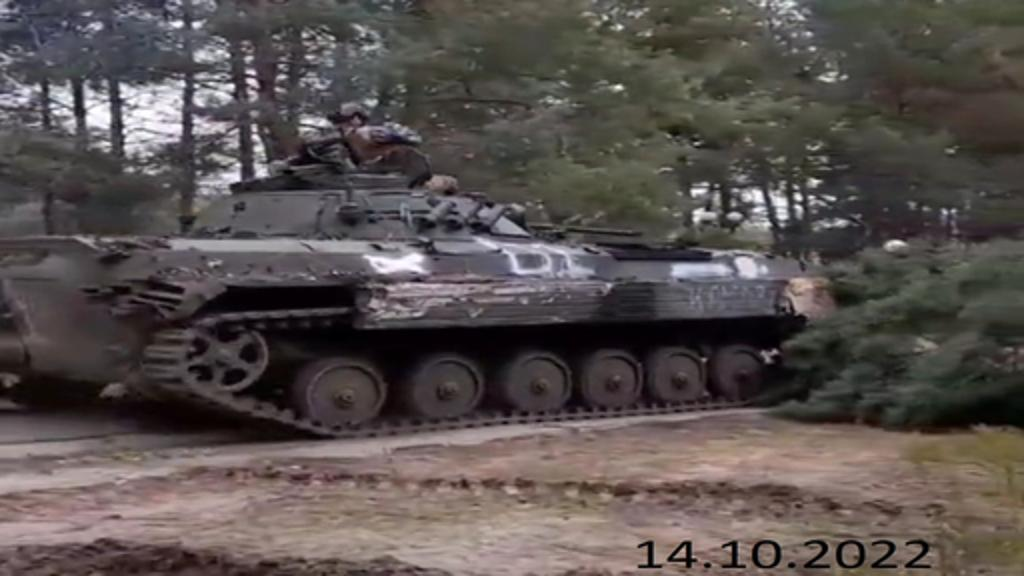APC-IFV: (0, 142, 828, 438)
